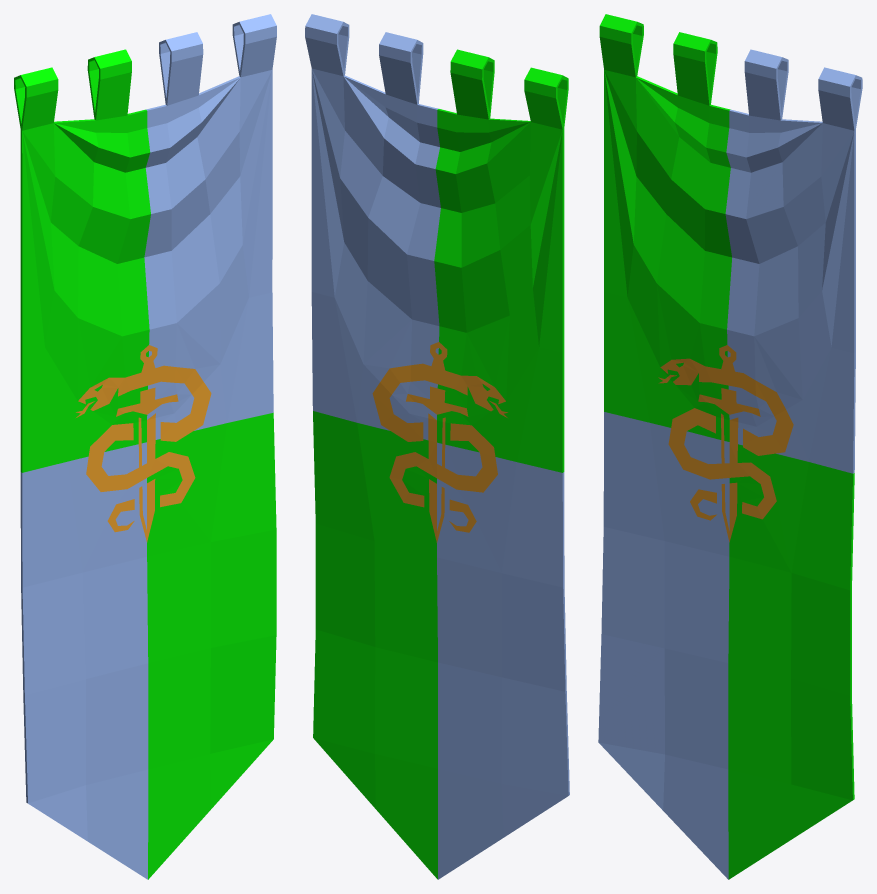
The model's file is SM_Flag_Banner_Medium_D_Fantasy.fbx.
3 views of the same model, side by side, from view 1: azimuth 30°, elevation 25°; view 2: azimuth 150°, elevation 25°; view 3: azimuth 330°, elevation 25° (orthographic).
Visible parts, largest first — view 1: flag-banner-medium-d-fantasy; view 2: flag-banner-medium-d-fantasy; view 3: flag-banner-medium-d-fantasy.
Boxes of the visible parts, box(x1,y1,x2,y2) form: flag-banner-medium-d-fantasy: box(14, 14, 276, 879); flag-banner-medium-d-fantasy: box(305, 14, 569, 879); flag-banner-medium-d-fantasy: box(598, 14, 862, 879).
Bounding box in the file's own units: 0.9575 × 3.04 × 0.0921.
